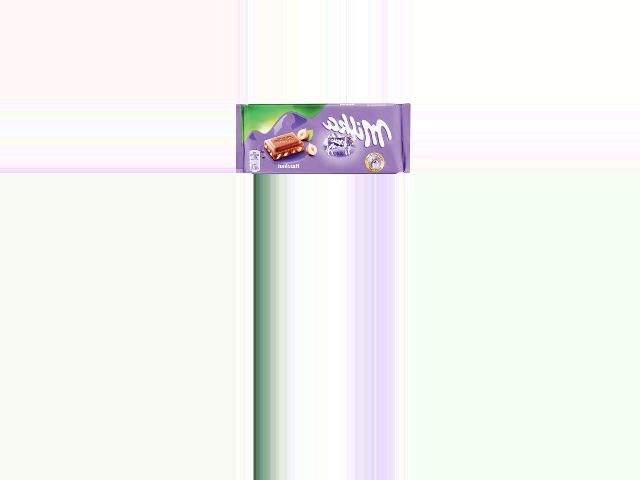chocolate: (235, 103, 410, 174)
